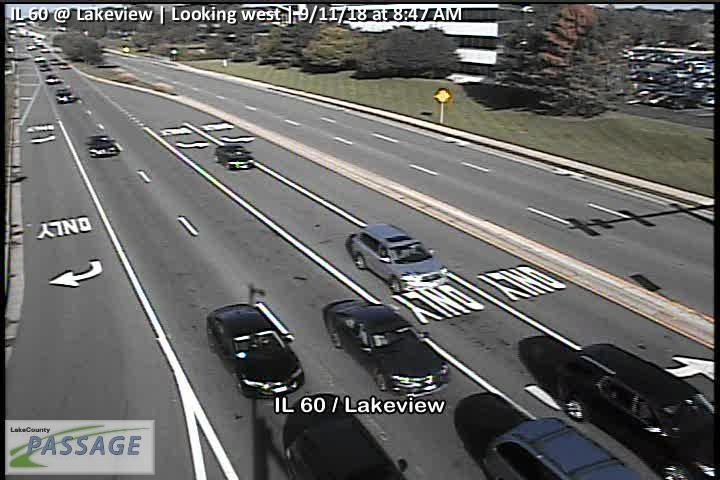SUV: (559, 340, 720, 480), (480, 417, 641, 480)
Sedan: (321, 298, 450, 398), (207, 304, 306, 400), (346, 222, 448, 295), (215, 144, 254, 170), (86, 135, 121, 158)
